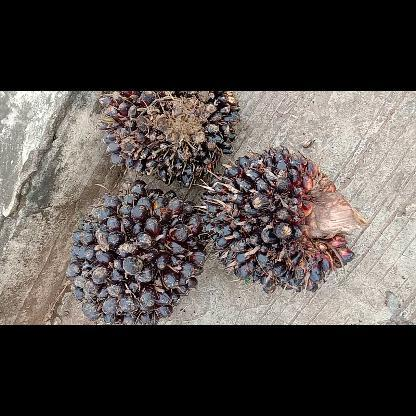TBS mentah: (198, 144, 372, 294), (66, 178, 209, 324), (95, 91, 243, 185)
